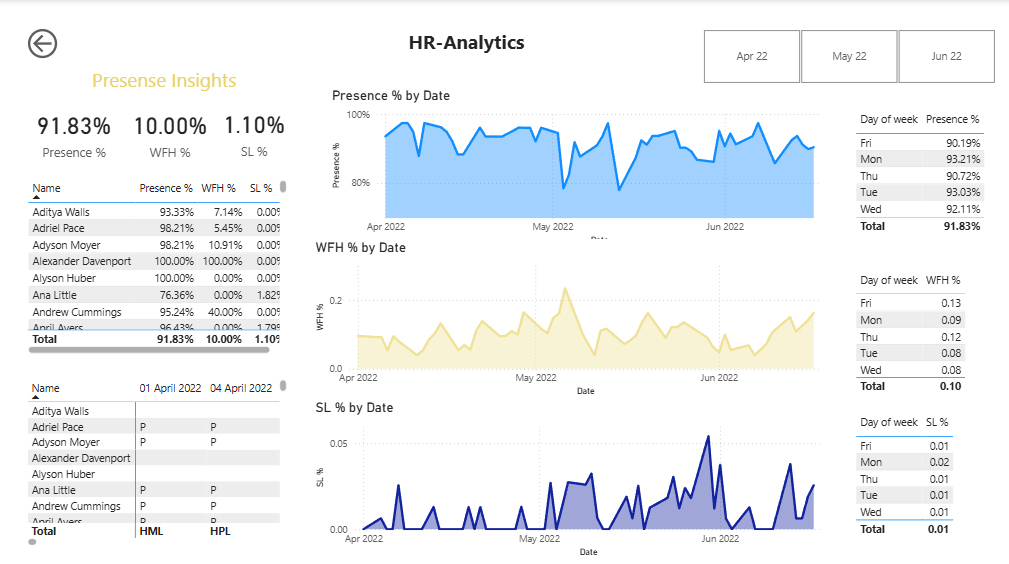

The dashboard page shown, as its layout file describes it:
{"tool":"powerbi","page":{"name":"Page 1","canvas":[1280,720],"ordinal":0},"visuals":[{"type":"card","fields":{"Values":["Measure Table.Presence %"]},"box":[32.1,111.5,126.6,111.5],"z":0},{"type":"actionButton","box":[32,32,96,48],"z":1000},{"type":"slicer","fields":{"Values":["Final Data.Month"]},"box":[864,32,416,80],"z":2000},{"type":"card","fields":{"Values":["Measure Table.WFH %"]},"box":[158.7,111.5,115.3,111.5],"z":3000},{"type":"card","fields":{"Values":["Measure Table.SL %"]},"box":[274,111.5,96.4,109.6],"z":4000},{"type":"textbox","box":[113.4,79.4,387.4,64.3],"z":5000},{"type":"tableEx","fields":{"Values":["Final Data.Name","Measure Table.Presence %","Measure Table.WFH %","Measure Table.SL %"]},"box":[32.1,223,336.4,228.7],"z":6000},{"type":"pivotTable","fields":{"Rows":["Final Data.Name"],"Values":["Final Data.Value"],"Columns":["Final Data.Date"]},"box":[32.1,474.3,336.4,219.2],"z":7000},{"type":"stackedAreaChart","fields":{"Category":["Final Data.Date"],"Y":["Measure Table.Presence %"]},"box":[415.8,111.5,640.6,202.2],"z":8000},{"type":"stackedAreaChart","fields":{"Category":["Final Data.Date"],"Y":["Measure Table.WFH %"]},"box":[395,302.4,661.4,202.2],"z":9000},{"type":"stackedAreaChart","fields":{"Category":["Final Data.Date"],"Y":["Measure Table.SL %"]},"box":[395,504.6,661.4,202.2],"z":10000},{"type":"tableEx","fields":{"Values":["Final Data.Day of week","Measure Table.Presence %"]},"box":[1075.3,136.1,204.1,202.2],"z":11000},{"type":"tableEx","fields":{"Values":["Final Data.Day of week","Measure Table.WFH %"]},"box":[1075.3,338.3,204.1,202.2],"z":12000},{"type":"tableEx","fields":{"Values":["Final Data.Day of week","Measure Table.SL %"]},"box":[1075.3,517.8,204.1,202.2],"z":13000},{"type":"textbox","box":[512,32,224,48],"z":13001}]}

Visuals, with their boxes in screenshot pixels (x1, y1, x2, y2), scaled from the page's 1280x720 canvas onto the 1009x564 screenshot:
card - Measure Table.Presence %: [25, 87, 125, 175]
actionButton: [25, 25, 101, 63]
slicer - Final Data.Month: [681, 25, 1008, 88]
card - Measure Table.WFH %: [125, 87, 216, 175]
card - Measure Table.SL %: [216, 87, 292, 173]
textbox: [89, 62, 395, 113]
tableEx - Final Data.Name x Measure Table.Presence %: [25, 175, 290, 354]
pivotTable - Final Data.Name x Final Data.Value: [25, 372, 290, 543]
stackedAreaChart - Final Data.Date x Measure Table.Presence %: [328, 87, 833, 246]
stackedAreaChart - Final Data.Date x Measure Table.WFH %: [311, 237, 833, 395]
stackedAreaChart - Final Data.Date x Measure Table.SL %: [311, 395, 833, 554]
tableEx - Final Data.Day of week x Measure Table.Presence %: [848, 107, 1008, 265]
tableEx - Final Data.Day of week x Measure Table.WFH %: [848, 265, 1008, 423]
tableEx - Final Data.Day of week x Measure Table.SL %: [848, 406, 1008, 563]
textbox: [404, 25, 580, 63]
